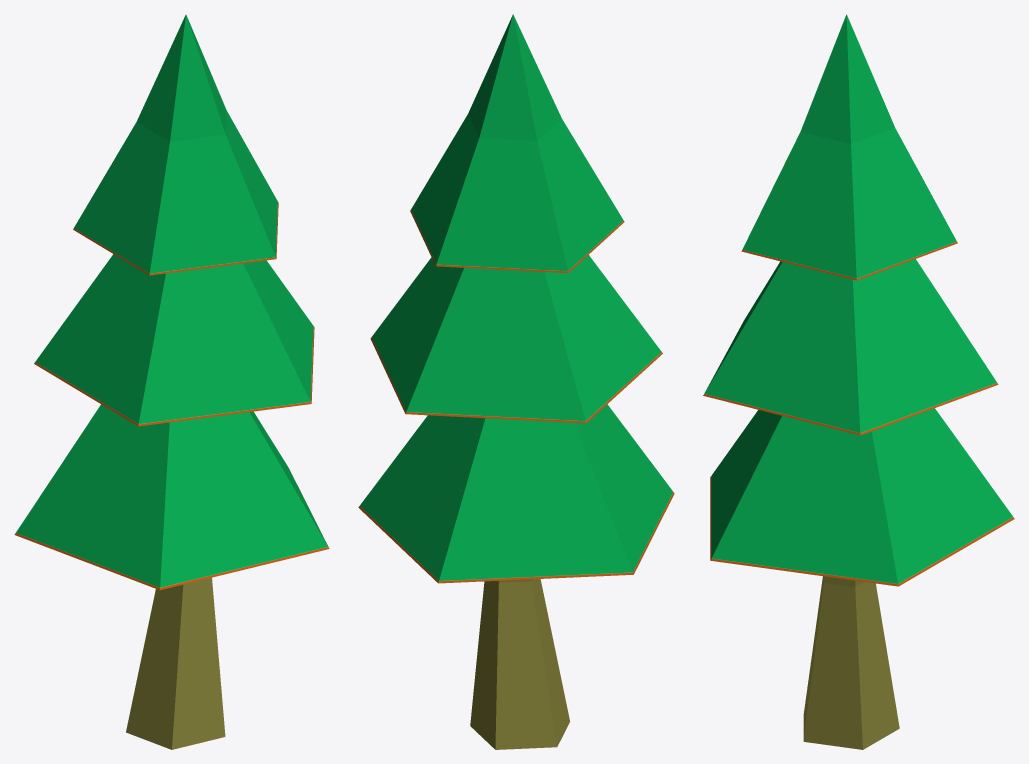
File: tree_kansei.fbx
3 renders of one model, left to right at view 1: azimuth 30°, elevation 25°; view 2: azimuth 150°, elevation 25°; view 3: azimuth 270°, elevation 25°, orthographic.
Parts seen in each view (by area): view 1: 円; view 2: 円; view 3: 円.
Part boxes in pixels (left/top/right/bottom): 円: left=14, top=14, right=329, bottom=749; 円: left=358, top=14, right=674, bottom=749; 円: left=703, top=14, right=1014, bottom=749.
Bounding box in the file's own units: 245 × 591 × 232.
Materials: 1 (1 with a texture image).
